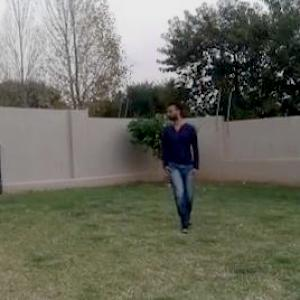follow: (165, 101, 197, 227)
